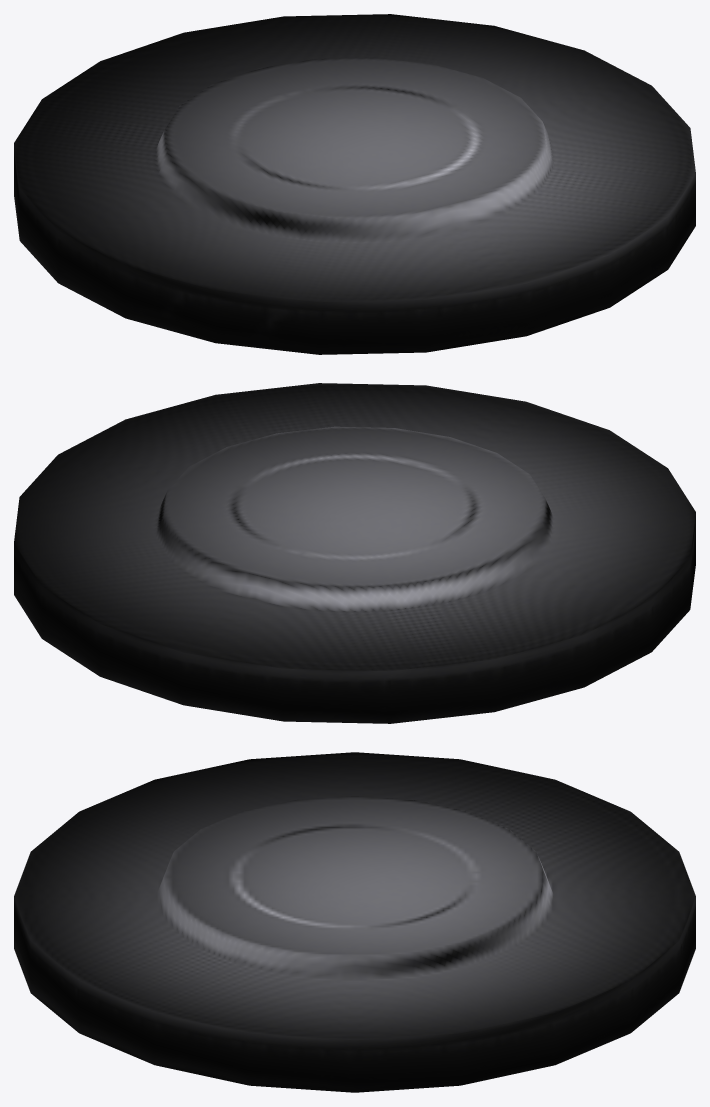
File: r_rotor.obj
The picture shows the model from 3 angles, top to bottom: view 1: azimuth 30°, elevation 25°; view 2: azimuth 150°, elevation 25°; view 3: azimuth 270°, elevation 25°; orthographic projection.
Visible parts, largest first — view 1: BrakeRotor_LOW; view 2: BrakeRotor_LOW; view 3: BrakeRotor_LOW.
Boxes of the visible parts, x1,y1,x2,y2 form: BrakeRotor_LOW: [14, 14, 695, 354]; BrakeRotor_LOW: [14, 383, 695, 723]; BrakeRotor_LOW: [14, 752, 695, 1092].
Size of the model in its own units: 0.3022 by 0.0734 by 0.3022.
1 material, 1 textured.
